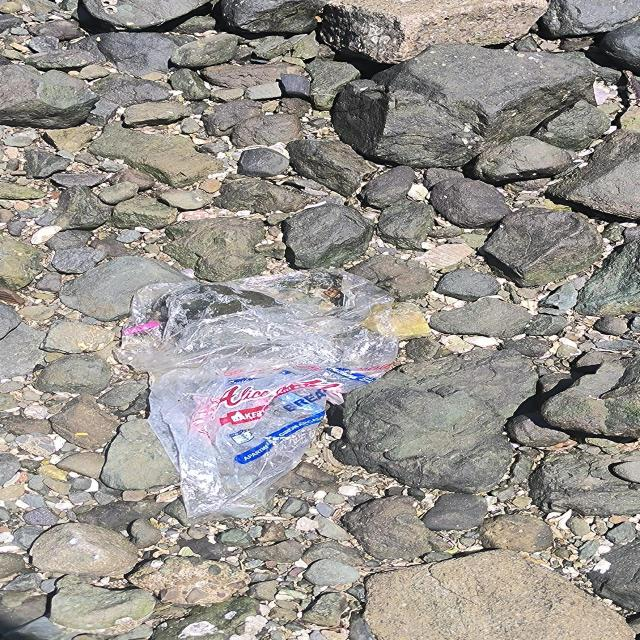plastic_waste: (115, 268, 396, 519)
